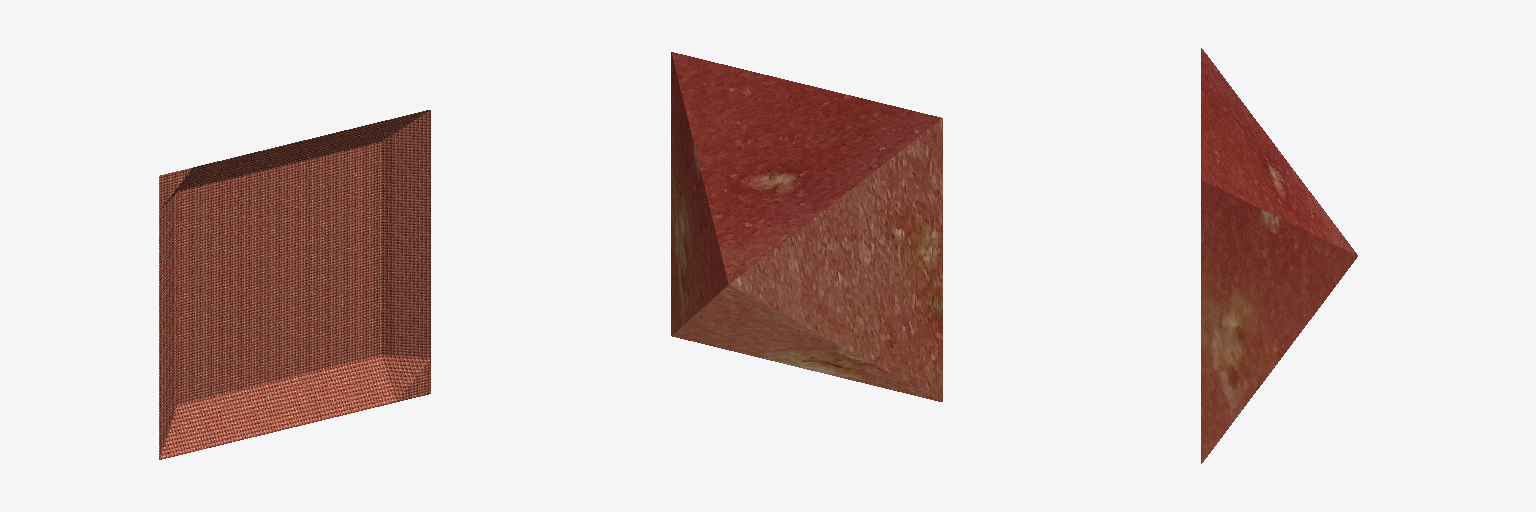
3 views of the same model, side by side, from view 1: azimuth 30°, elevation 25°; view 2: azimuth 150°, elevation 25°; view 3: azimuth 270°, elevation 25° (orthographic).
Parts seen in each view (by area): view 1: Ground.003.003, Ground.002.003, Ground.003.002, Ground.003.001, Ground.001.002, Ground.002.002, Ground.001.003, Ground.003.004, Ground.002.001, Ground.004.003, Ground.001.001, Ground.002.004 (+4 smaller); view 2: Bottom.004, Bottom.003, Bottom.001, Bottom.002; view 3: Bottom.002, Bottom.003.
Boxes of the visible parts, x1=… form: Ground.003.003: x1=348, y1=320, x2=430, y2=409; Ground.002.003: x1=348, y1=177, x2=430, y2=255; Ground.003.002: x1=348, y1=248, x2=430, y2=327; Ground.003.001: x1=280, y1=328, x2=362, y2=426; Ground.001.002: x1=212, y1=344, x2=294, y2=443; Ground.002.002: x1=348, y1=110, x2=430, y2=184; Ground.001.003: x1=212, y1=273, x2=279, y2=360; Ground.003.004: x1=280, y1=257, x2=347, y2=343; Ground.002.001: x1=280, y1=186, x2=347, y2=272; Ground.004.003: x1=212, y1=202, x2=279, y2=289; Ground.001.001: x1=159, y1=361, x2=226, y2=459; Ground.002.004: x1=280, y1=126, x2=362, y2=201; Bottom.004: x1=729, y1=119, x2=942, y2=401; Bottom.003: x1=672, y1=52, x2=942, y2=283; Bottom.001: x1=672, y1=285, x2=940, y2=401; Bottom.002: x1=671, y1=52, x2=728, y2=335; Bottom.002: x1=1201, y1=180, x2=1357, y2=463; Bottom.003: x1=1201, y1=48, x2=1356, y2=254.
Bounding box in the file's own units: 1000 × 1000 × 501.
1 materials, 1 textured.